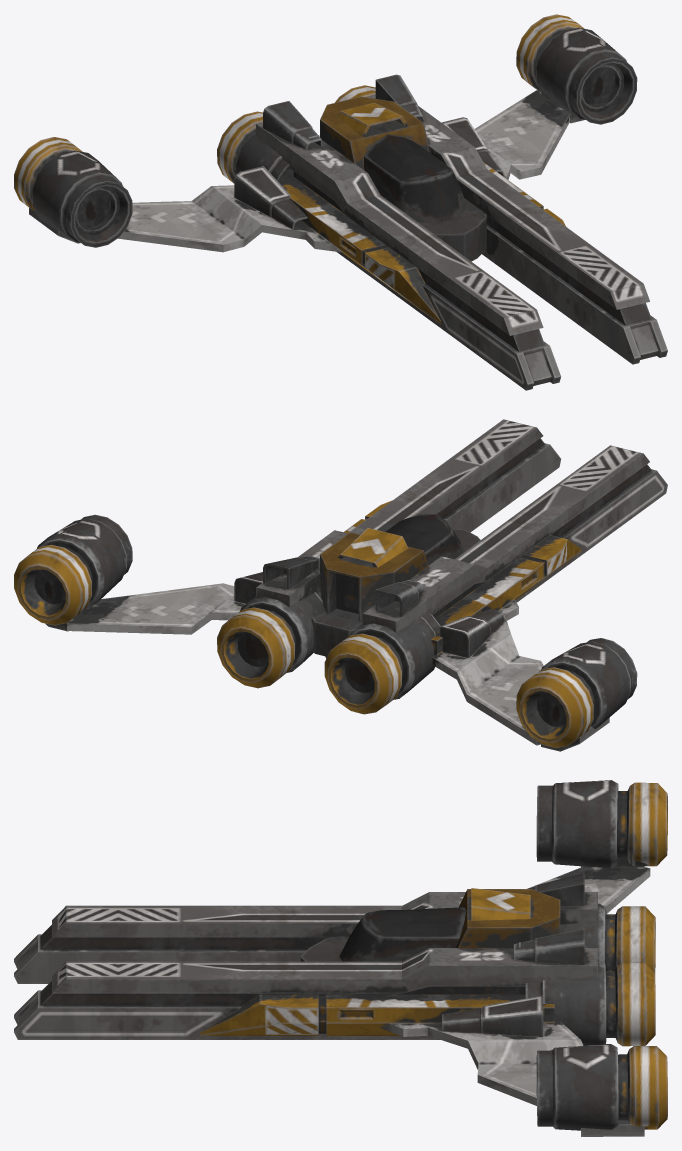
The model's file is nox-ship.glb.
3 views of the same model, one above another, from view 1: azimuth 30°, elevation 25°; view 2: azimuth 150°, elevation 25°; view 3: azimuth 270°, elevation 25° (orthographic). The views are drawn at different scales.
Visible parts, largest first — view 1: Executioner; view 2: Executioner; view 3: Executioner.
Part boxes in pixels (box(x1,y1,x2,y2)): Executioner: box(14, 14, 667, 390); Executioner: box(14, 419, 667, 751); Executioner: box(14, 780, 667, 1136).
Bounding box in the file's own units: 10.02 × 1.85 × 9.2.
1 material, 1 textured.
